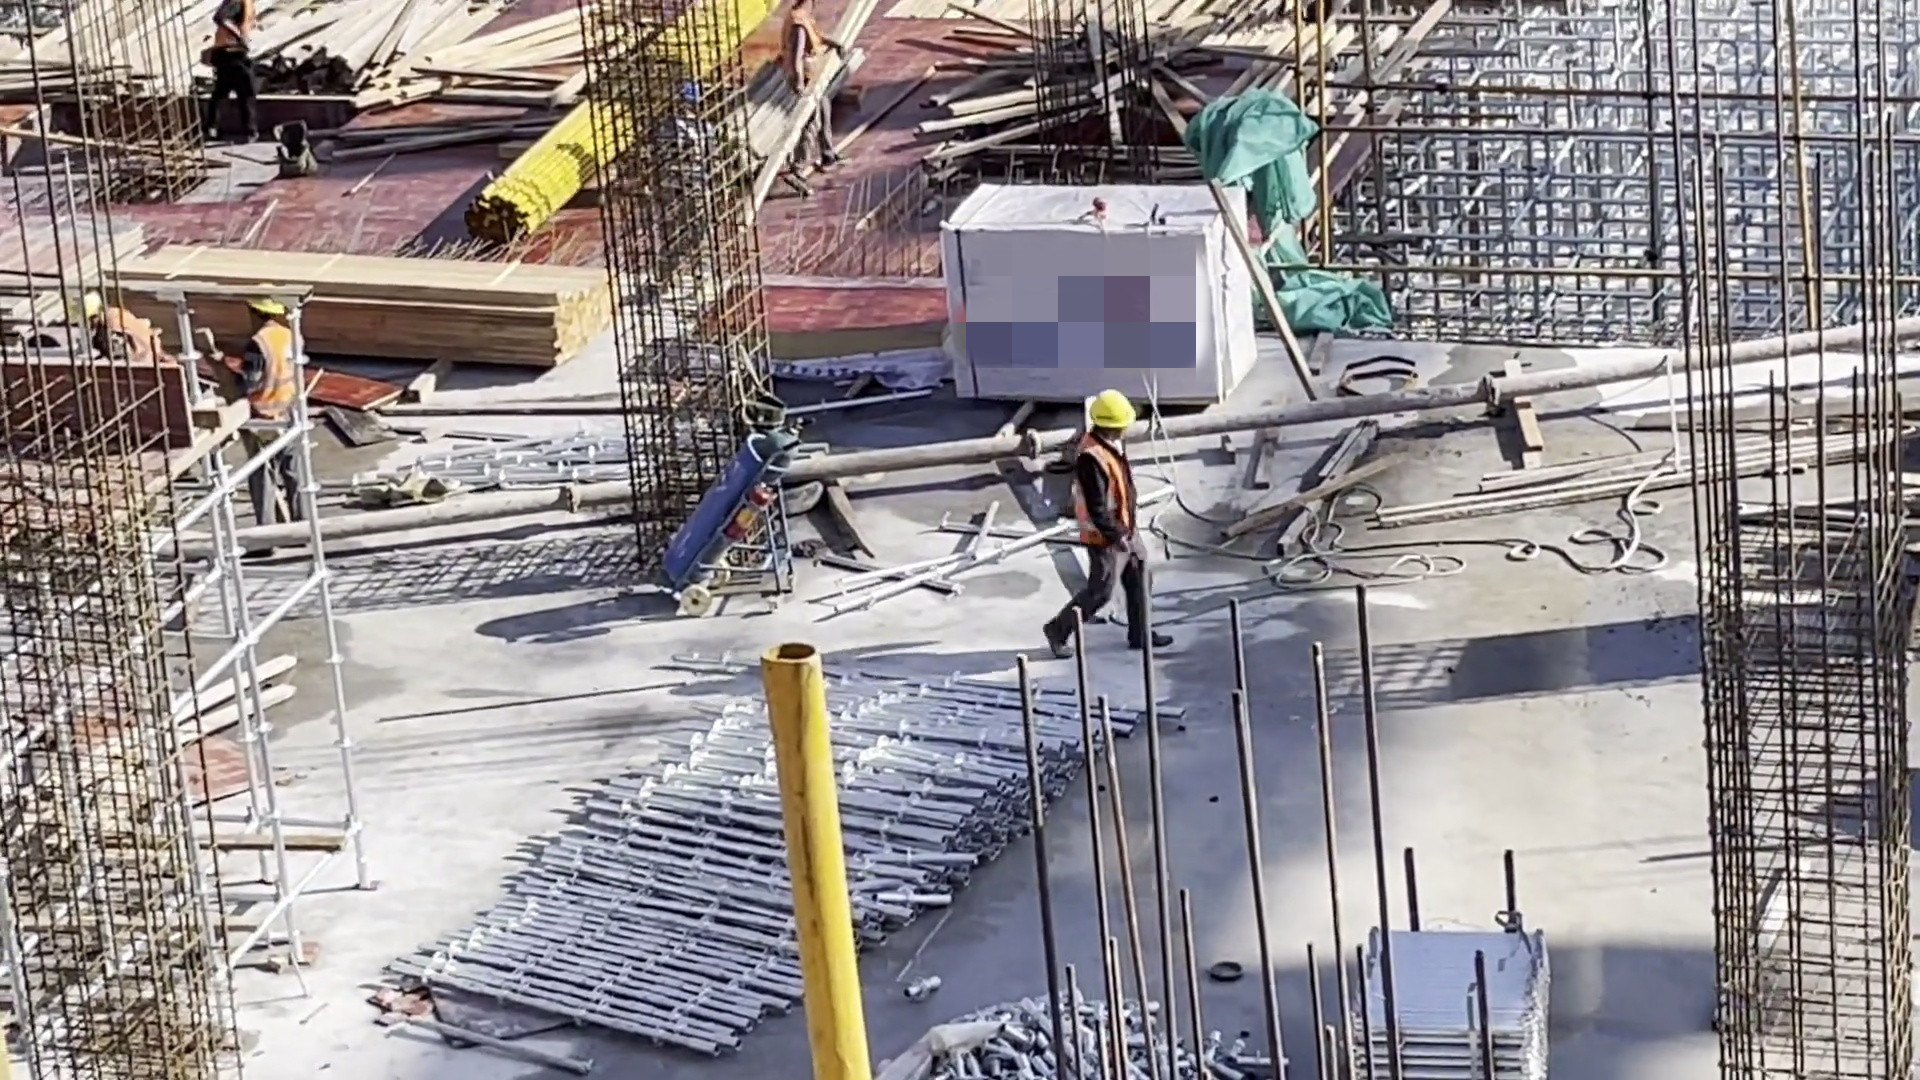helmet: (1088, 387, 1136, 429)
person: (1048, 386, 1165, 660), (225, 291, 324, 523), (624, 93, 724, 297), (767, 1, 842, 173), (70, 287, 170, 373), (196, 1, 265, 123)
vest: (1064, 440, 1138, 547), (240, 326, 302, 416), (102, 300, 162, 365), (777, 14, 818, 95), (207, 1, 253, 64)
